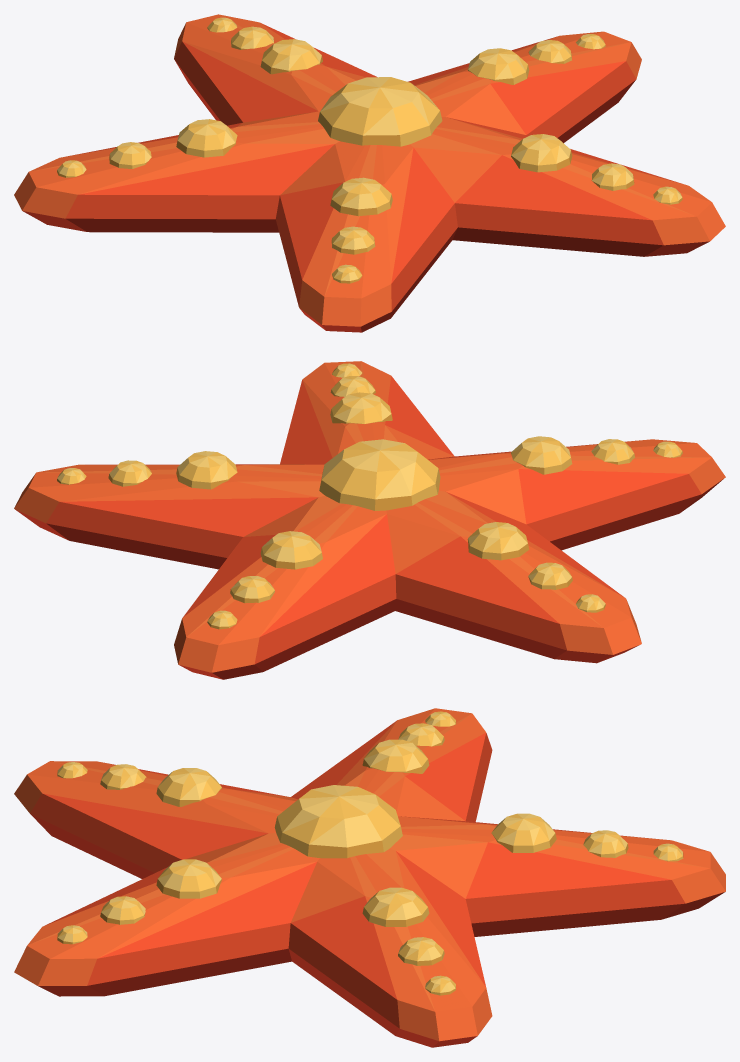
The model's file is Starfish.glb.
The picture shows the model from 3 angles, top to bottom: view 1: azimuth 30°, elevation 25°; view 2: azimuth 150°, elevation 25°; view 3: azimuth 270°, elevation 25°; orthographic projection. The views are drawn at different scales.
Parts seen in each view (by area): view 1: Starfish_Coral, Starfish_Orange, Starfish_Gold, Starfish_GoldLight, Starfish_RedEdge, Starfish_OrangeLight, Starfish_GoldShade; view 2: Starfish_Coral, Starfish_Orange, Starfish_Gold, Starfish_RedEdge, Starfish_GoldLight, Starfish_OrangeLight, Starfish_GoldShade; view 3: Starfish_Coral, Starfish_Orange, Starfish_Gold, Starfish_GoldLight, Starfish_RedEdge, Starfish_OrangeLight, Starfish_GoldShade.
Boxes of the visible parts, x1=… form: Starfish_Coral: x1=65, y1=23, x2=682, y2=311; Starfish_Orange: x1=14, y1=14, x2=725, y2=326; Starfish_Gold: x1=58, y1=17, x2=678, y2=282; Starfish_GoldLight: x1=57, y1=17, x2=682, y2=280; Starfish_RedEdge: x1=23, y1=61, x2=709, y2=332; Starfish_OrangeLight: x1=32, y1=15, x2=693, y2=294; Starfish_GoldShade: x1=57, y1=39, x2=682, y2=283; Starfish_Coral: x1=46, y1=376, x2=701, y2=663; Starfish_Orange: x1=14, y1=361, x2=725, y2=672; Starfish_Gold: x1=60, y1=363, x2=682, y2=627; Starfish_RedEdge: x1=15, y1=479, x2=723, y2=679; Starfish_GoldLight: x1=57, y1=363, x2=679, y2=626; Starfish_OrangeLight: x1=45, y1=362, x2=707, y2=635; Starfish_GoldShade: x1=57, y1=373, x2=673, y2=629; Starfish_Coral: x1=30, y1=721, x2=685, y2=1028; Starfish_Orange: x1=14, y1=708, x2=725, y2=1041; Starfish_Gold: x1=57, y1=711, x2=683, y2=995; Starfish_GoldLight: x1=57, y1=712, x2=682, y2=992; Starfish_RedEdge: x1=30, y1=814, x2=724, y2=1047; Starfish_OrangeLight: x1=30, y1=714, x2=707, y2=1010; Starfish_GoldShade: x1=57, y1=724, x2=683, y2=995.
Bounding box in the file's own units: 5.6 × 0.87 × 5.33.
Materials: 1 (1 with a texture image).
